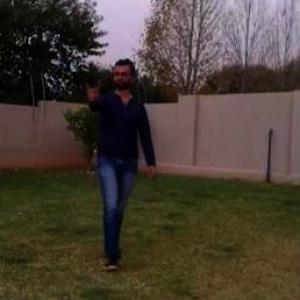takeoff-hand: (76, 71, 104, 103)
